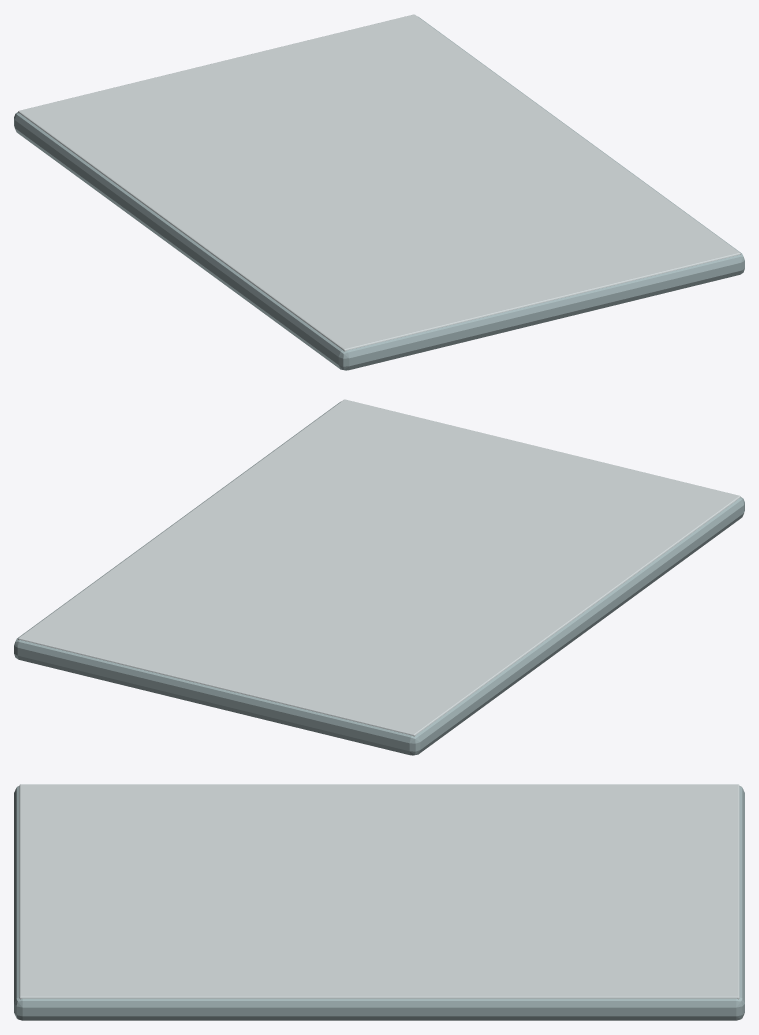
The model's file is terrain_3.glb.
3 renders of one model, top to bottom at view 1: azimuth 30°, elevation 25°; view 2: azimuth 150°, elevation 25°; view 3: azimuth 270°, elevation 25°, orthographic. The views are drawn at different scales.
Parts seen in each view (by area): view 1: terrain_3_terrain_3, terrain_3_Ocean_basalt; view 2: terrain_3_terrain_3, terrain_3_Ocean_basalt; view 3: terrain_3_terrain_3, terrain_3_Ocean_basalt.
Boxes of the visible parts, x1,y1,x2,y2 form: terrain_3_terrain_3: (18,14,740,351); terrain_3_Ocean_basalt: (14,16,744,370); terrain_3_terrain_3: (18,399,740,736); terrain_3_Ocean_basalt: (14,401,744,755); terrain_3_terrain_3: (19,784,739,999); terrain_3_Ocean_basalt: (14,786,744,1020).
Bounding box in the file's own units: 19.2 × 1.01 × 27.2.
